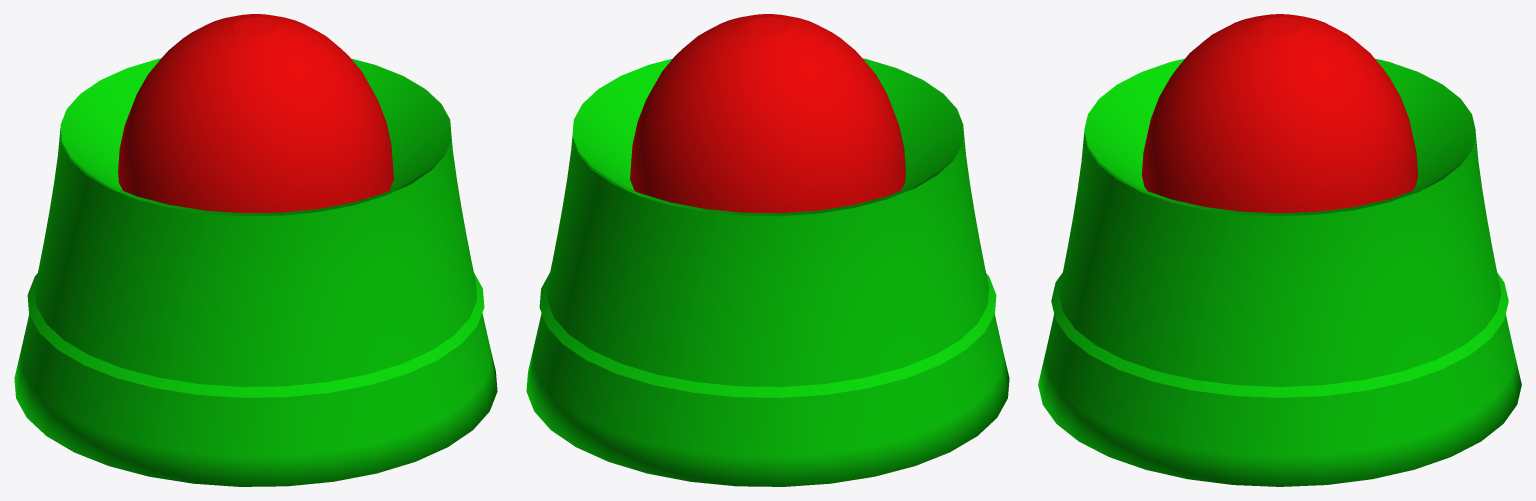
Rendered from Champignon_Growth.glb.
3 views of the same model, side by side, from view 1: azimuth 30°, elevation 25°; view 2: azimuth 150°, elevation 25°; view 3: azimuth 270°, elevation 25° (orthographic).
Visible parts, largest first — view 1: Champignon; view 2: Champignon; view 3: Champignon.
Part boxes in pixels (box(x1,y1,x2,y2)): Champignon: box(14, 14, 497, 486); Champignon: box(526, 14, 1009, 486); Champignon: box(1038, 14, 1521, 486).
Size of the model in its own units: 0.021 by 0.0219 by 0.021.
